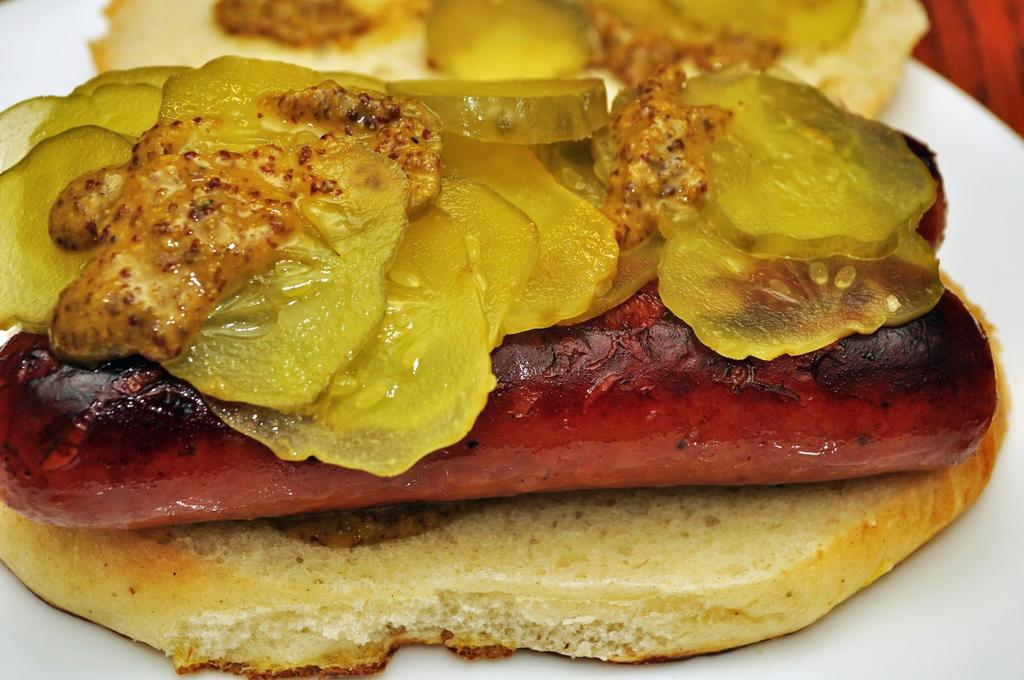sandwich: (0, 0, 1009, 679)
